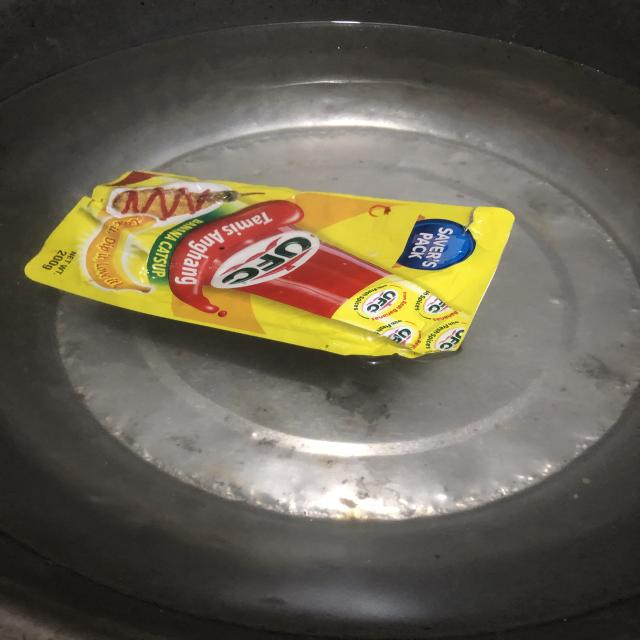Plastic Pouch: (22, 165, 519, 373)
